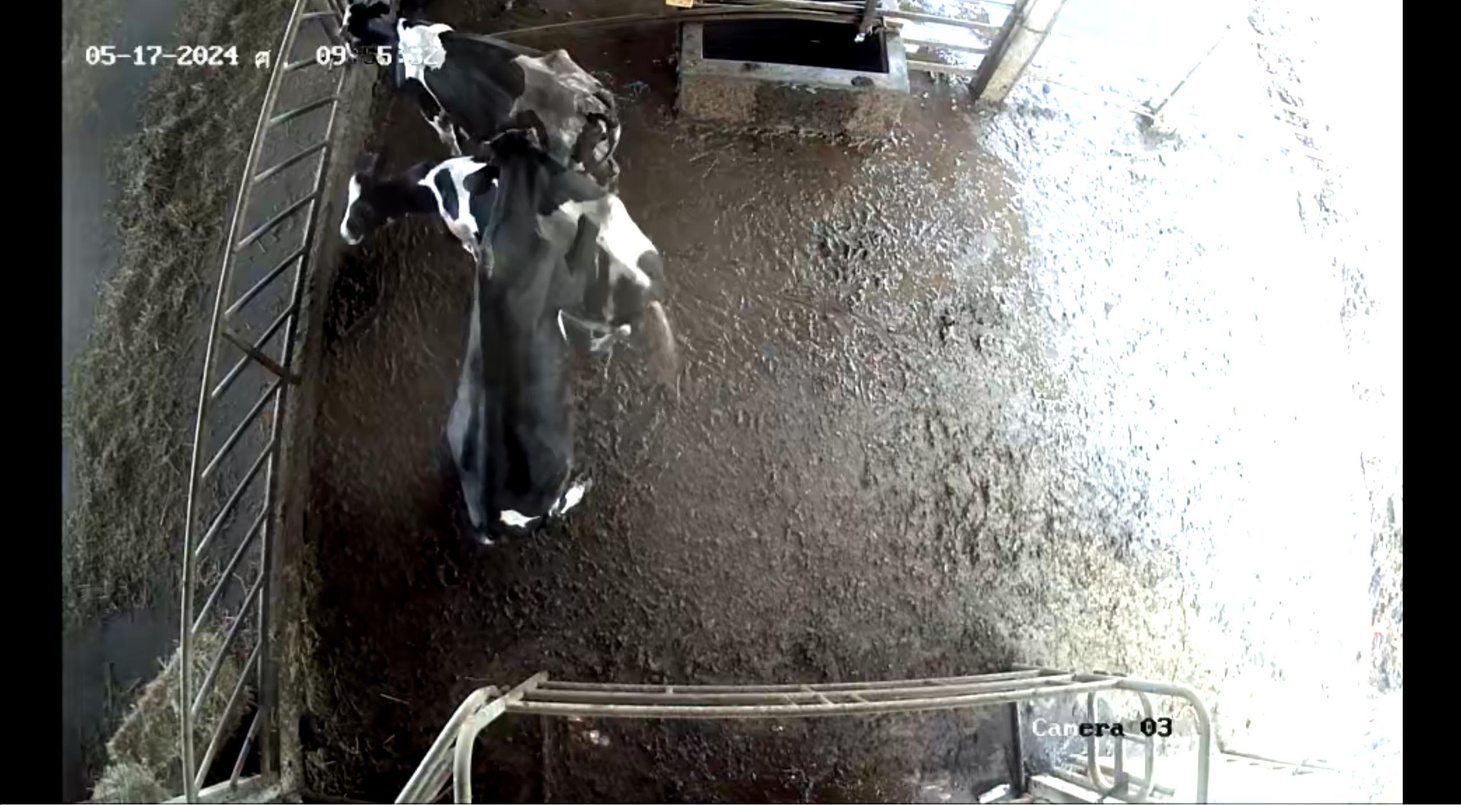ride: (443, 119, 603, 543)
stand: (338, 161, 675, 338), (338, 0, 629, 154)
